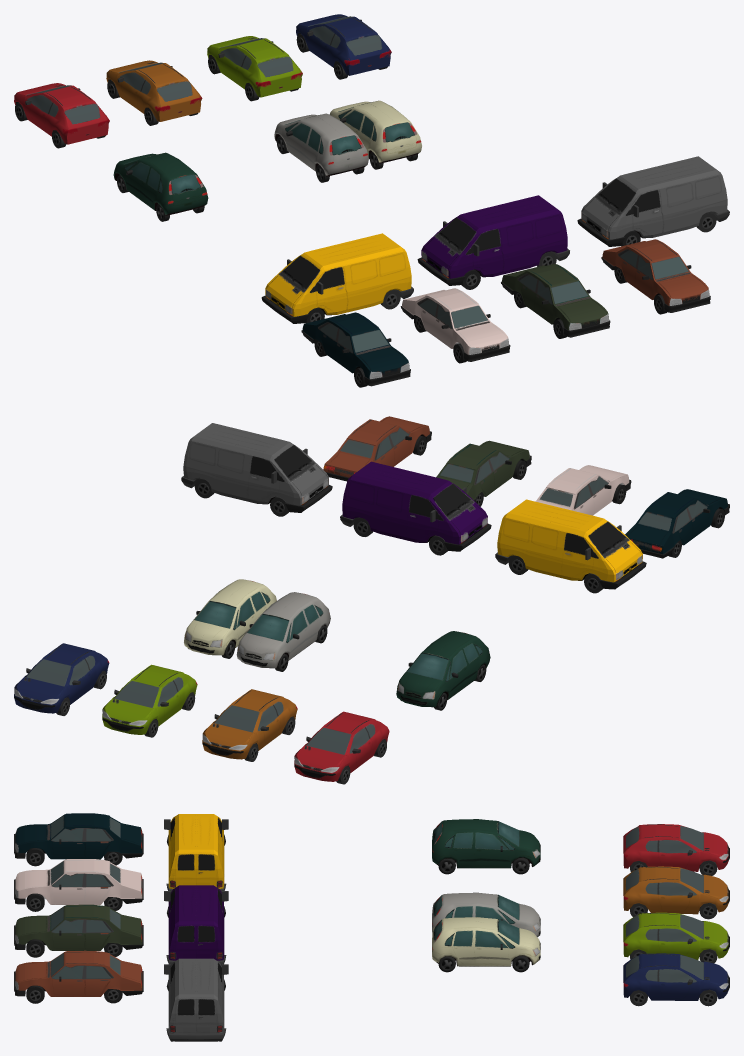
The model's file is CarrosRelleno.fbx.
3 renders of one model, top to bottom at view 1: azimuth 30°, elevation 25°; view 2: azimuth 150°, elevation 25°; view 3: azimuth 270°, elevation 25°, orthographic. The views are drawn at different scales.
Visible parts, largest first — view 1: Object_19.002, Object_19.001, Object_19.003, Object_28.004, Object_28.001, Object_28.002, Object_28.003, Object_7, Object_4, Object_10.004, Object_10.001, Object_10.002 (+2 smaller); view 2: Object_19.001, Object_19.003, Object_19.002, Object_7, Object_4, Object_10.002, Object_10.004, Object_10.003, Object_10.001, Object_28.001, Object_8, Object_28.004 (+2 smaller); view 3: Object_28.004, Object_28.003, Object_28.001, Object_28.002, Object_4, Object_8, Object_19.003, Object_10.004, Object_10.002, Object_19.002, Object_10.001, Object_19.001 (+2 smaller).
Part boxes in pixels (<box>): Object_19.002: <box>417,195,569,289</box>; Object_19.001: <box>261,233,413,323</box>; Object_19.003: <box>577,156,729,246</box>; Object_28.004: <box>601,239,710,314</box>; Object_28.001: <box>301,312,410,387</box>; Object_28.002: <box>400,288,510,363</box>; Object_28.003: <box>501,264,610,338</box>; Object_7: <box>274,113,368,182</box>; Object_4: <box>113,152,208,221</box>; Object_10.004: <box>296,14,391,79</box>; Object_10.001: <box>14,83,109,148</box>; Object_10.002: <box>106,60,202,125</box>; Object_19.001: <box>495,499,646,593</box>; Object_19.003: <box>181,423,332,516</box>; Object_19.002: <box>340,461,491,555</box>; Object_7: <box>236,592,330,671</box>; Object_4: <box>396,631,490,710</box>; Object_10.002: <box>202,689,297,761</box>; Object_10.004: <box>14,643,109,715</box>; Object_10.003: <box>102,664,197,737</box>; Object_10.001: <box>294,711,389,784</box>; Object_28.001: <box>625,489,729,558</box>; Object_8: <box>184,579,276,658</box>; Object_28.004: <box>323,416,431,481</box>; Object_28.004: <box>14,950,143,1003</box>; Object_28.003: <box>14,904,143,957</box>; Object_28.001: <box>14,813,143,866</box>; Object_28.002: <box>14,859,143,911</box>; Object_4: <box>432,819,540,874</box>; Object_8: <box>432,917,540,972</box>; Object_19.003: <box>164,958,228,1041</box>; Object_10.004: <box>623,953,729,1006</box>; Object_10.002: <box>623,866,729,919</box>; Object_19.002: <box>164,885,228,966</box>; Object_10.001: <box>623,824,729,875</box>; Object_19.001: <box>164,814,228,892</box>.
Size of the model in its own units: 1580 by 189 by 2339.
20 materials, 15 textured.
